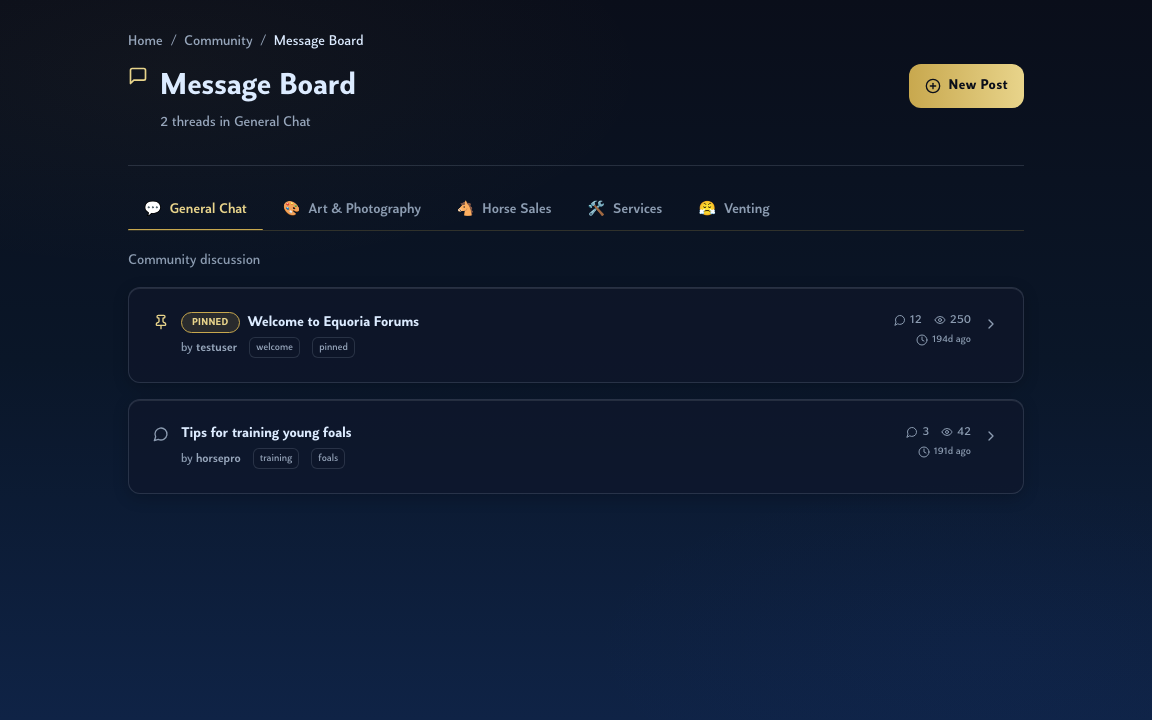
Test: MessageBoardPage — new thread (Equoria-pqor7) › a refused post says so in the dialog and keeps what the player typed
Click the button with test id "new-post-button" at (966, 86), box top-left (908, 64), bottom-right (1024, 108)
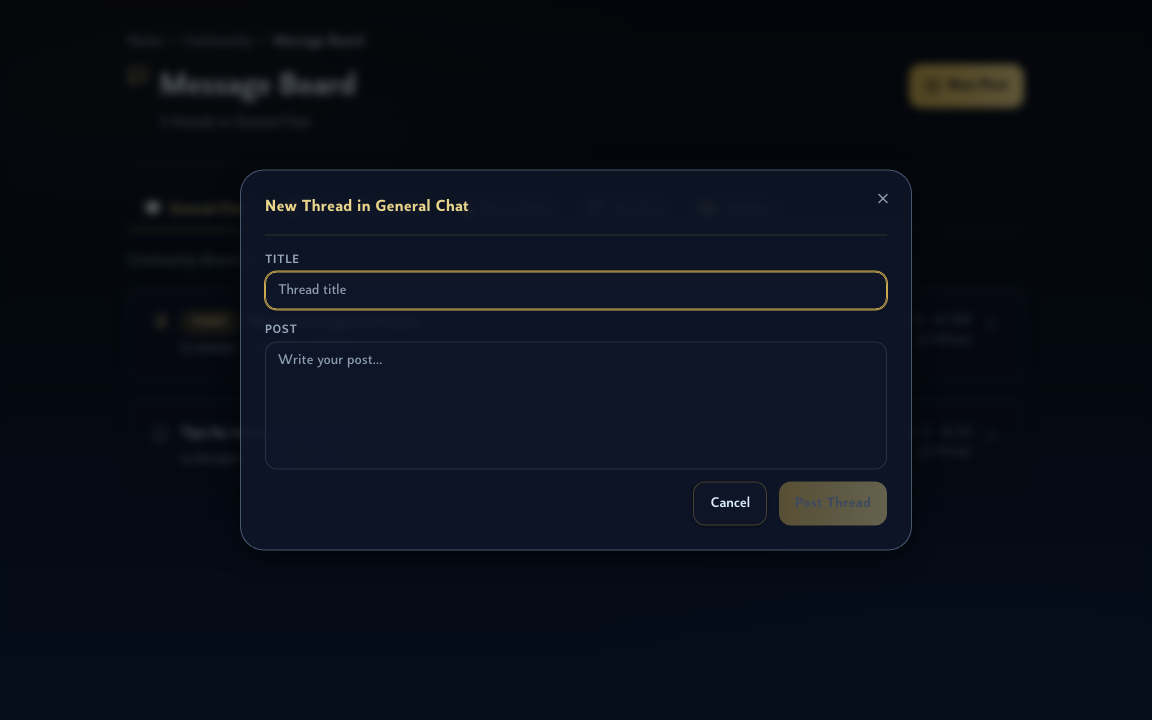
Type "My title" into the field with test id "new-thread-title" at (576, 290), box top-left (265, 272), bottom-right (887, 310)
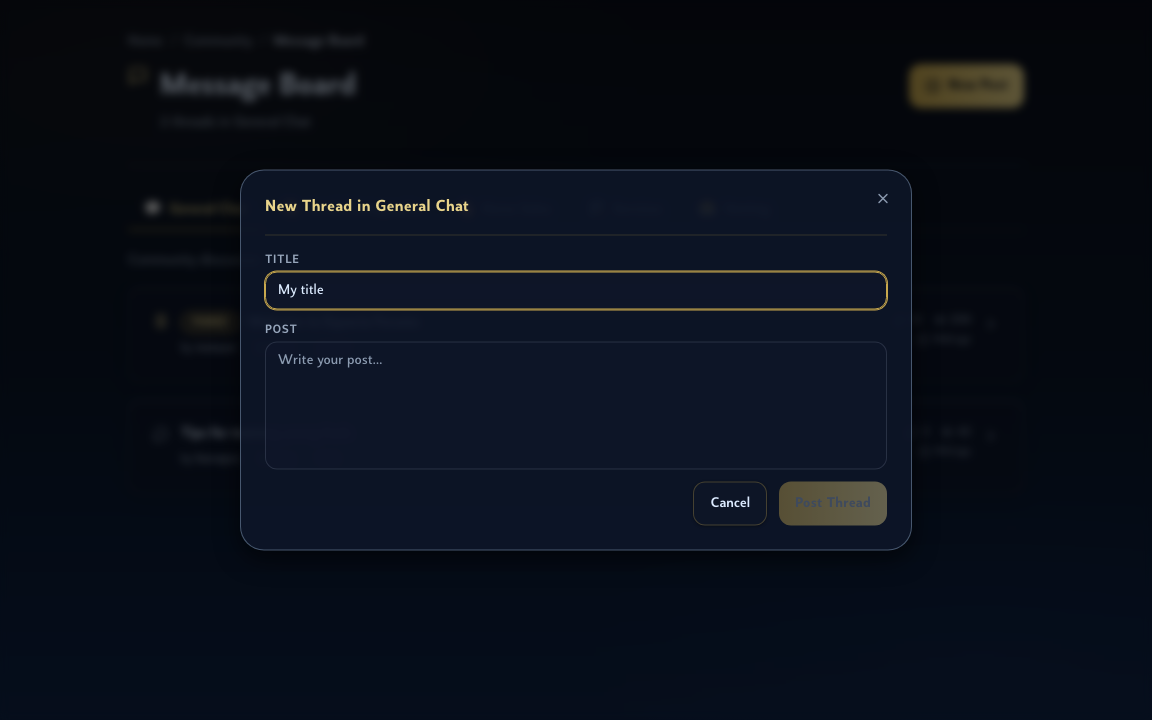
Type "My long post" into the text box with test id "new-thread-content" at (576, 406), box top-left (265, 342), bottom-right (887, 470)
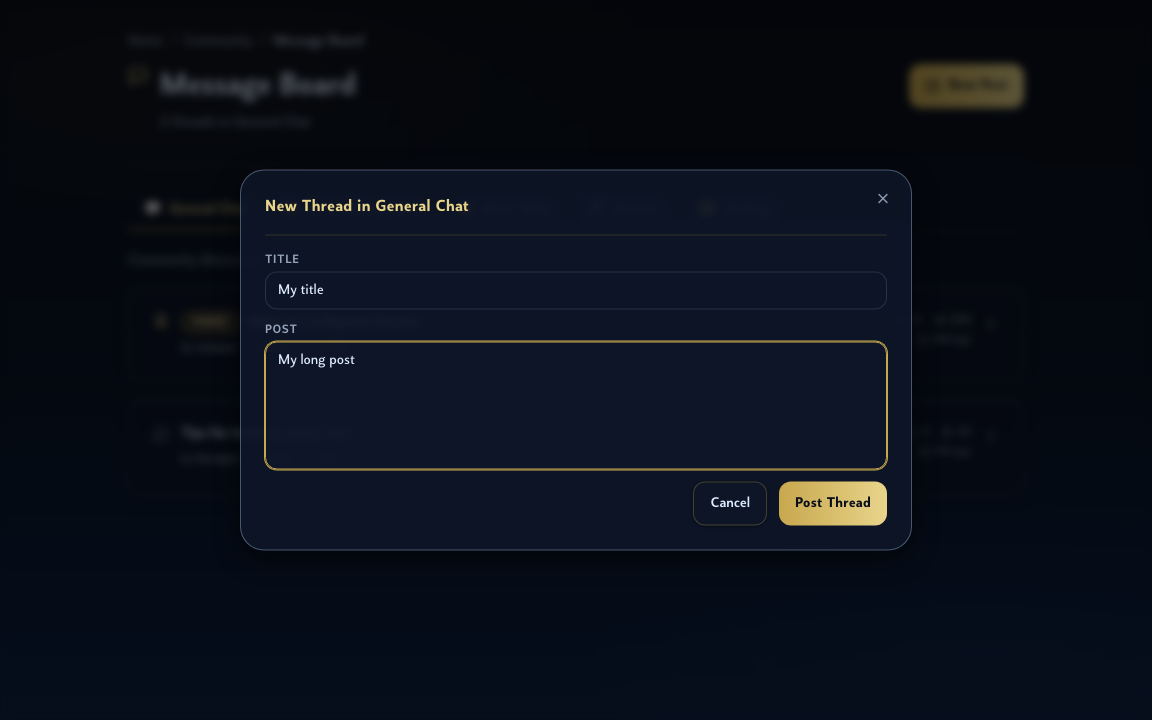
Click the button with test id "submit-new-thread" at (833, 504), box top-left (779, 482), bottom-right (887, 526)
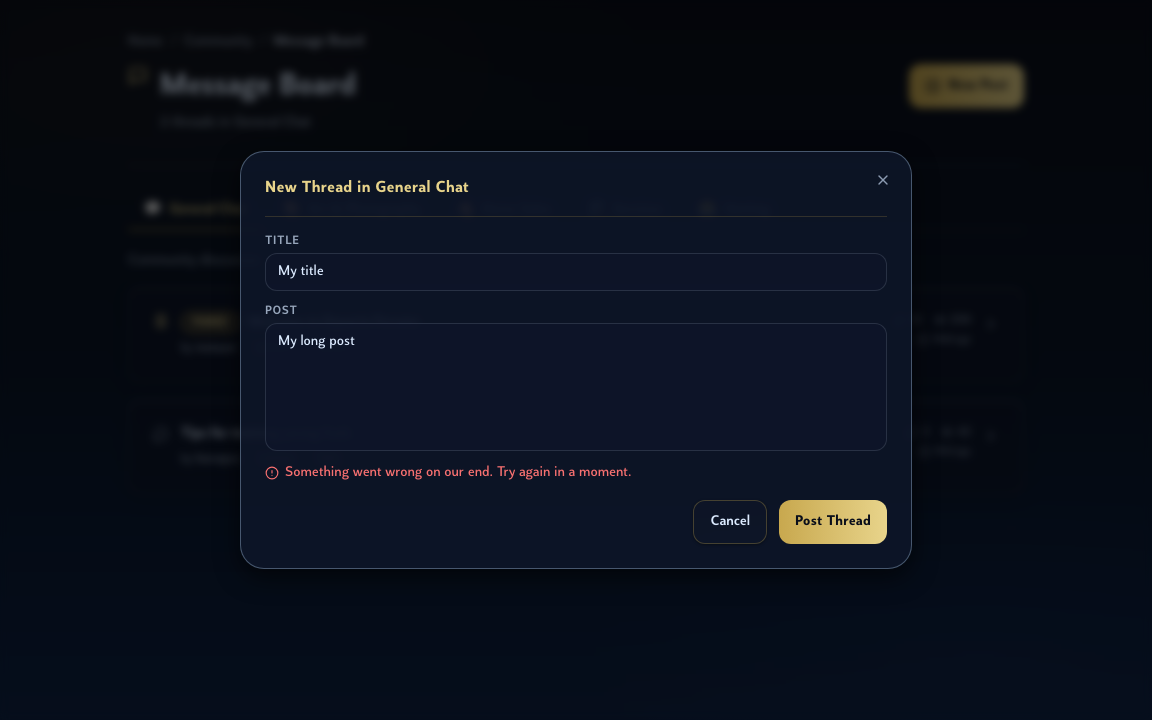
Now the button with test id "submit-new-thread" is enabled, box top-left (779, 500), bottom-right (887, 544)
Now the message shows "Something went wrong", box top-left (285, 465), bottom-right (631, 480)
